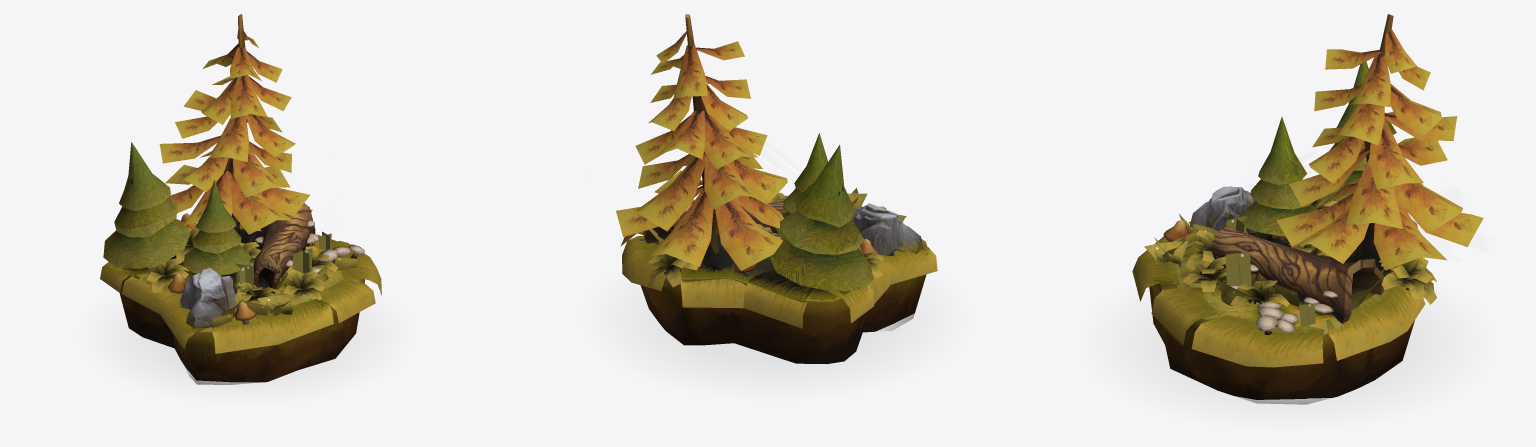
The model's file is forest-scene.glb.
3 views of the same model, side by side, from view 1: azimuth 30°, elevation 25°; view 2: azimuth 150°, elevation 25°; view 3: azimuth 270°, elevation 25° (orthographic). The views are drawn at different scales.
Visible parts, largest first — view 1: Object_4, Object_8, Object_3, Object_7, Object_5, Object_6; view 2: Object_4, Object_3, Object_7, Object_8, Object_6, Object_5; view 3: Object_4, Object_8, Object_3, Object_7, Object_5, Object_6.
Boxes of the visible parts, x1,y1,x2,y2 form: Object_4: [103, 14, 309, 276]; Object_8: [100, 209, 381, 353]; Object_3: [89, 296, 402, 400]; Object_7: [119, 227, 364, 384]; Object_5: [168, 203, 364, 324]; Object_6: [180, 268, 237, 328]; Object_4: [616, 14, 873, 290]; Object_3: [594, 274, 959, 395]; Object_7: [640, 233, 927, 363]; Object_8: [621, 188, 937, 328]; Object_6: [851, 203, 922, 255]; Object_5: [643, 201, 886, 276]; Object_4: [1238, 14, 1483, 272]; Object_8: [1132, 199, 1436, 367]; Object_3: [1092, 288, 1482, 425]; Object_7: [1149, 206, 1414, 404]; Object_5: [1163, 220, 1384, 335]; Object_6: [1188, 186, 1256, 233].
Size of the model in its own units: 749 by 692 by 755.
Materials: 7 (7 with a texture image).
